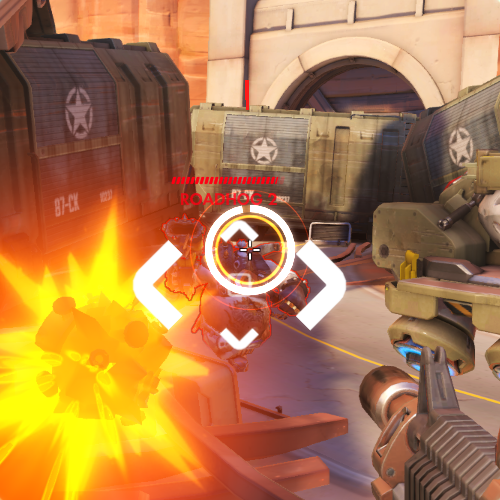hpbar: (170, 176, 285, 185)
